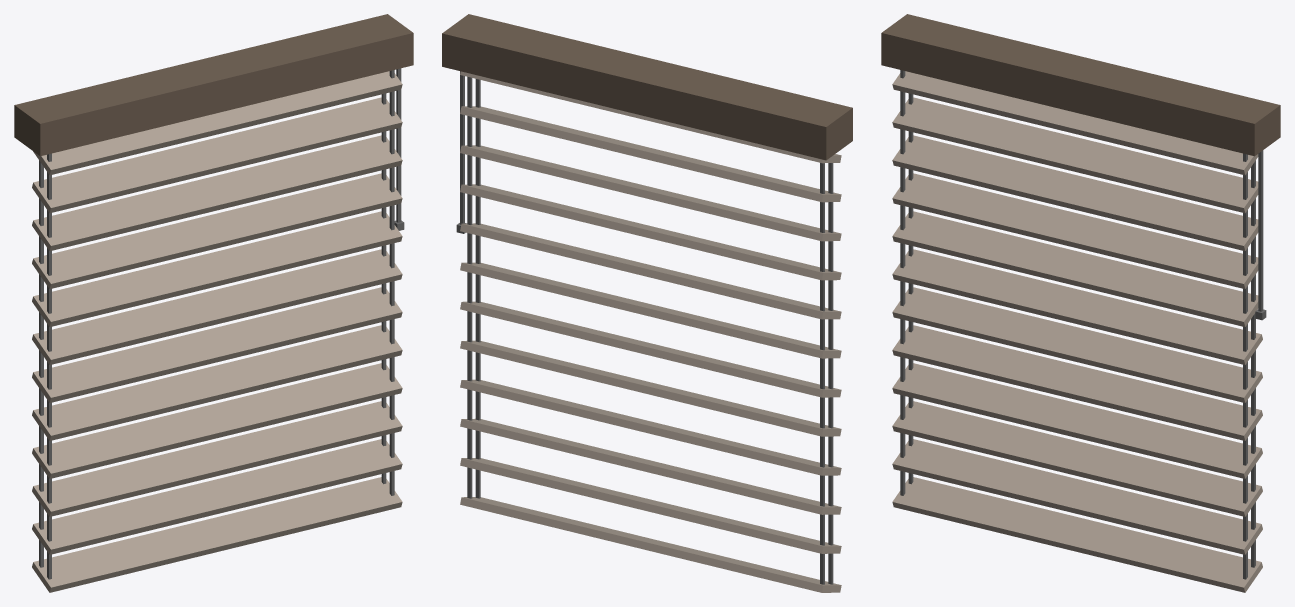
File: Curtains10_C2.fbx
The picture shows the model from 3 angles, left to right: view 1: azimuth 30°, elevation 25°; view 2: azimuth 150°, elevation 25°; view 3: azimuth 330°, elevation 25°; orthographic projection. The views are drawn at different scales.
Visible parts, largest first — view 1: Curtains10_C2; view 2: Curtains10_C2; view 3: Curtains10_C2.
Boxes of the visible parts, x1,y1,x2,y2 form: Curtains10_C2: (14, 14, 413, 592); Curtains10_C2: (442, 14, 852, 592); Curtains10_C2: (881, 14, 1280, 592).
Size of the model in its own units: 106 by 128 by 12.67.
